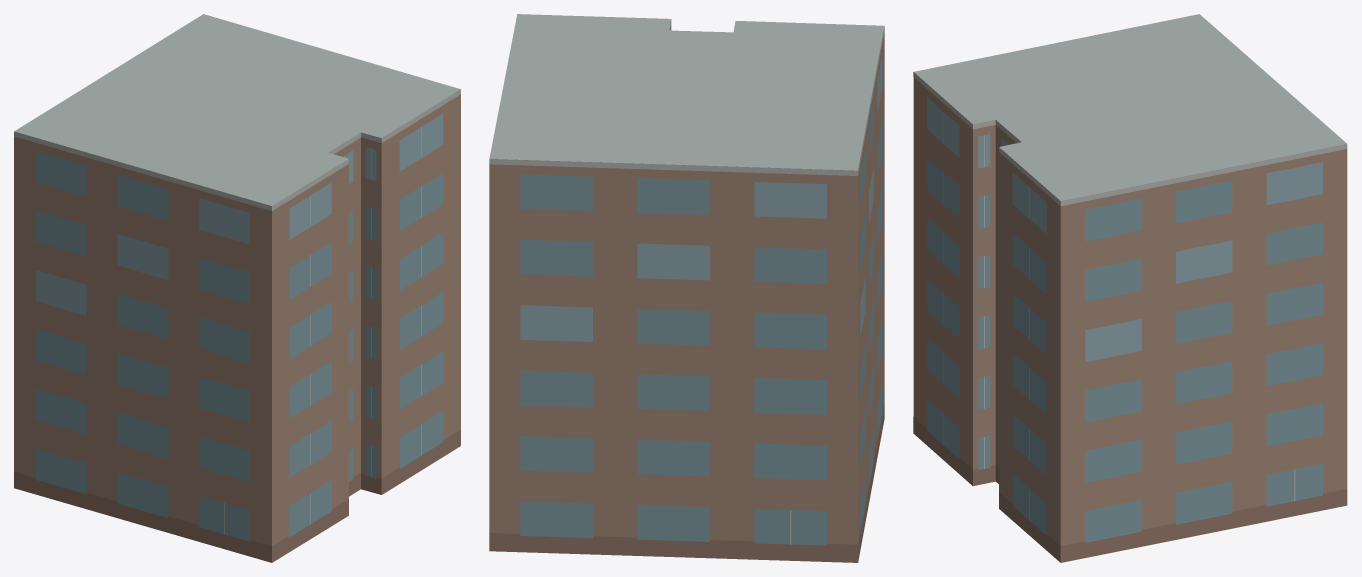
Rendered from survey-upis-32738309.glb.
3 views of the same model, side by side, from view 1: azimuth 30°, elevation 25°; view 2: azimuth 150°, elevation 25°; view 3: azimuth 270°, elevation 25° (orthographic). The views are drawn at different scales.
Parts seen in each view (by area): view 1: survey-upis-32738309.tmp; view 2: survey-upis-32738309.tmp; view 3: survey-upis-32738309.tmp.
Boxes of the visible parts, box(x1,y1,x2,y2) form: survey-upis-32738309.tmp: box(14, 14, 460, 562); survey-upis-32738309.tmp: box(489, 14, 884, 562); survey-upis-32738309.tmp: box(913, 14, 1347, 562).
Bounding box in the file's own units: 19.32 × 17.4 × 18.92.
